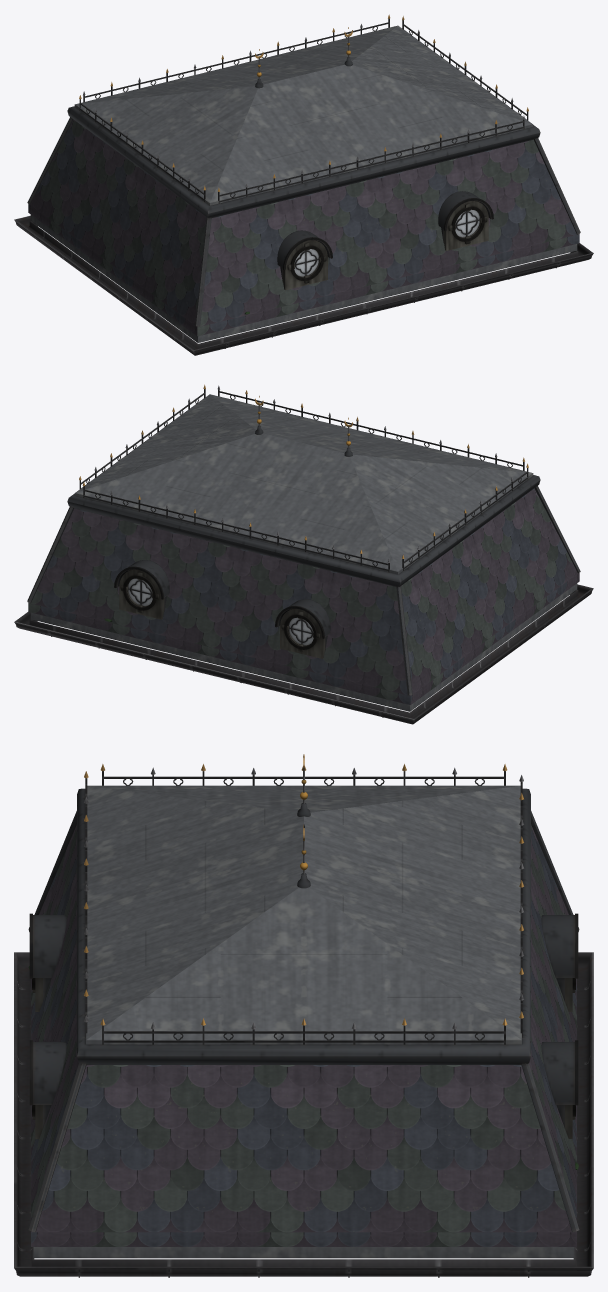
File: MansardRoof.fbx
3 views of the same model, one above another, from view 1: azimuth 30°, elevation 25°; view 2: azimuth 150°, elevation 25°; view 3: azimuth 270°, elevation 25° (orthographic). The views are drawn at different scales.
Visible parts, largest first — view 1: MansardRoof_Scale, MansardRoof_Lead, MansardRoof_Main, MansardRoof_Glass; view 2: MansardRoof_Scale, MansardRoof_Lead, MansardRoof_Main, MansardRoof_Glass; view 3: MansardRoof_Lead, MansardRoof_Scale, MansardRoof_Main.
Boxes of the visible parts, left/top/right/bottom form: MansardRoof_Scale: left=28, top=119, right=579, bottom=336; MansardRoof_Lead: left=30, top=25, right=577, bottom=342; MansardRoof_Main: left=14, top=14, right=593, bottom=355; MansardRoof_Glass: left=294, top=209, right=479, bottom=276; MansardRoof_Scale: left=28, top=488, right=579, bottom=704; MansardRoof_Lead: left=30, top=394, right=577, bottom=711; MansardRoof_Main: left=14, top=384, right=593, bottom=724; MansardRoof_Glass: left=128, top=578, right=313, bottom=645; MansardRoof_Lead: left=33, top=785, right=574, bottom=1258; MansardRoof_Scale: left=31, top=824, right=576, bottom=1246; MansardRoof_Main: left=14, top=754, right=593, bottom=1277.
Bounding box in the file's own units: 1792 × 889 × 1392.
